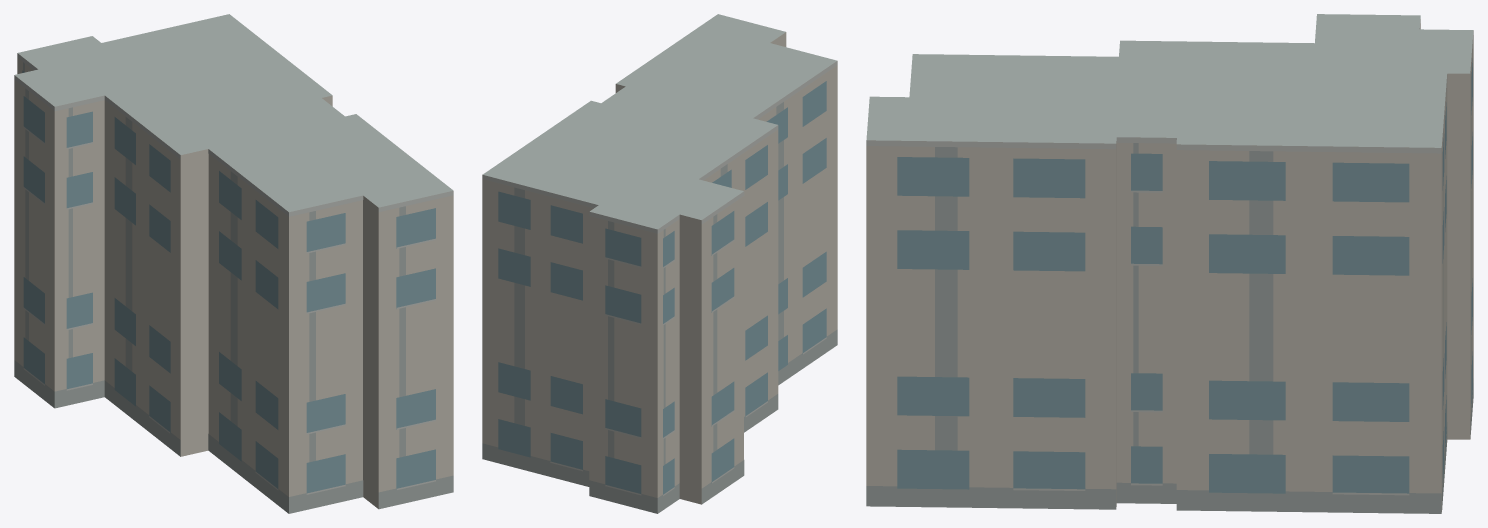
Rendered from survey-upis-32783810.glb.
The picture shows the model from 3 angles, left to right: view 1: azimuth 30°, elevation 25°; view 2: azimuth 150°, elevation 25°; view 3: azimuth 270°, elevation 25°; orthographic projection. The views are drawn at different scales.
Visible parts, largest first — view 1: survey-upis-32783810.tmp; view 2: survey-upis-32783810.tmp; view 3: survey-upis-32783810.tmp.
Boxes of the visible parts, x1,y1,x2,y2 form: survey-upis-32783810.tmp: (14,14,453,513); survey-upis-32783810.tmp: (482,14,837,513); survey-upis-32783810.tmp: (866,14,1473,513).
Bounding box in the file's own units: 12.4 × 15.8 × 23.76.
